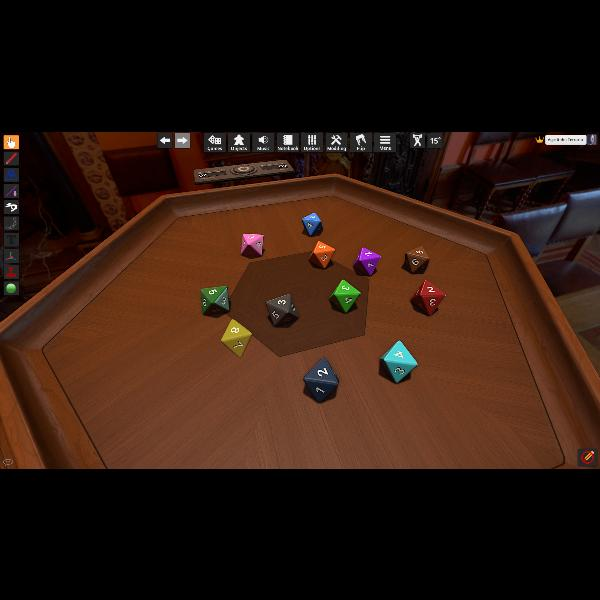d8: (303, 358, 337, 402), (387, 341, 419, 381), (411, 280, 445, 316), (222, 318, 252, 356), (265, 292, 298, 326), (329, 279, 360, 313), (200, 285, 228, 315), (354, 246, 380, 276), (309, 241, 334, 269), (404, 246, 426, 274), (241, 232, 263, 256), (302, 212, 322, 236)
